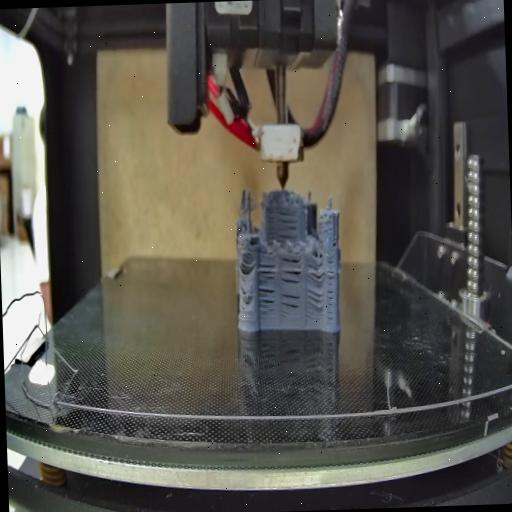cracks: (256, 257, 278, 317), (274, 203, 301, 242), (278, 254, 303, 286), (324, 257, 336, 320), (278, 288, 302, 317), (307, 254, 324, 282), (306, 288, 324, 312), (236, 256, 250, 274), (330, 228, 338, 252), (238, 282, 248, 300)
